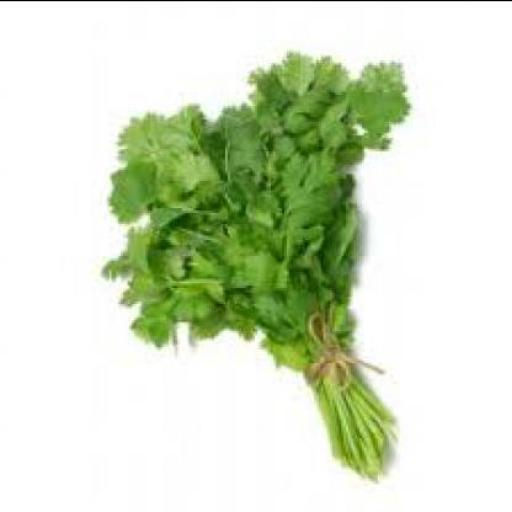biodegradable: (98, 48, 400, 478)
